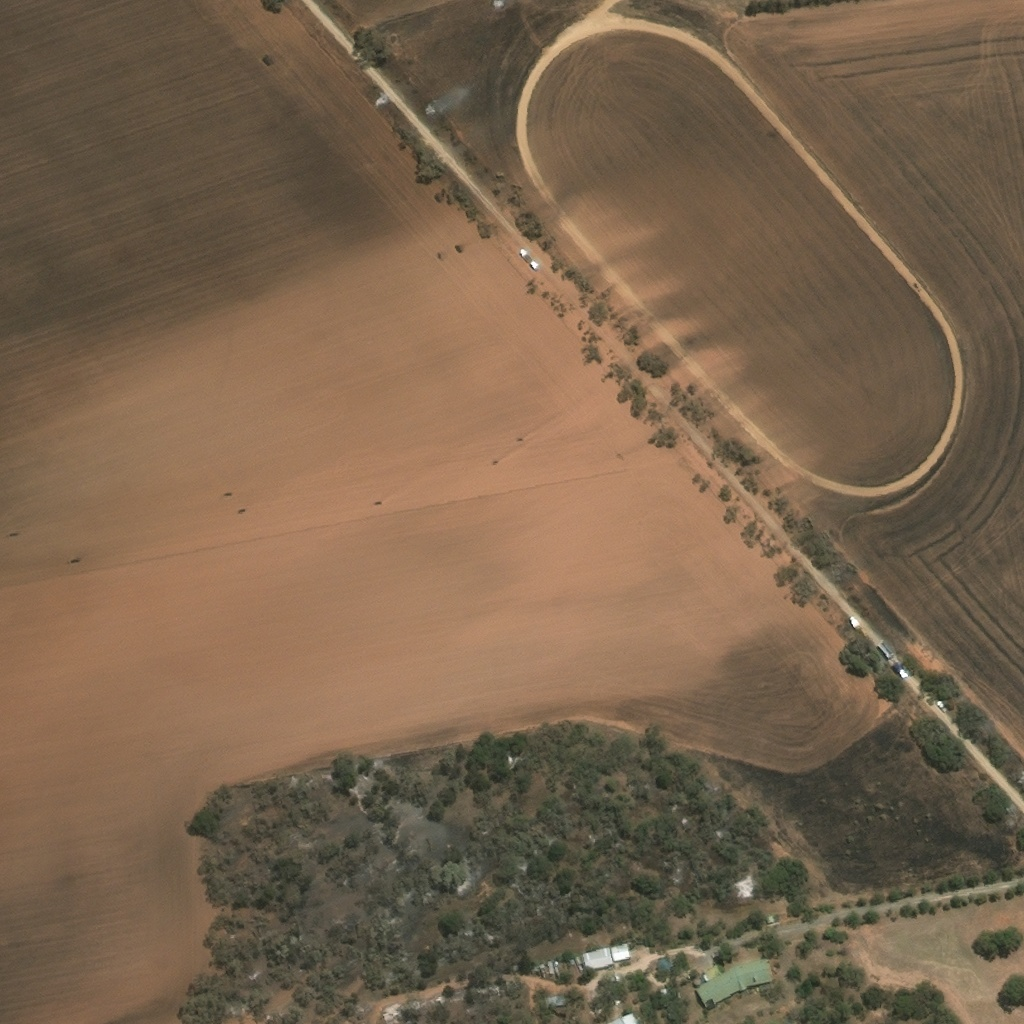0 no-damage: (698, 957, 775, 1008), (577, 942, 633, 972), (658, 958, 671, 971), (548, 996, 565, 1005), (694, 976, 703, 984), (767, 916, 774, 923)
4 un-classified: (609, 1011, 640, 1023)
